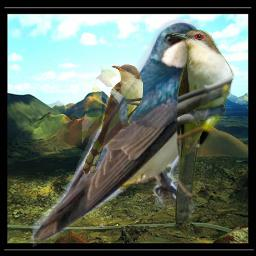Cuckoo: (170, 29, 235, 221), (82, 64, 143, 176)
Swallow: (24, 13, 218, 247)
